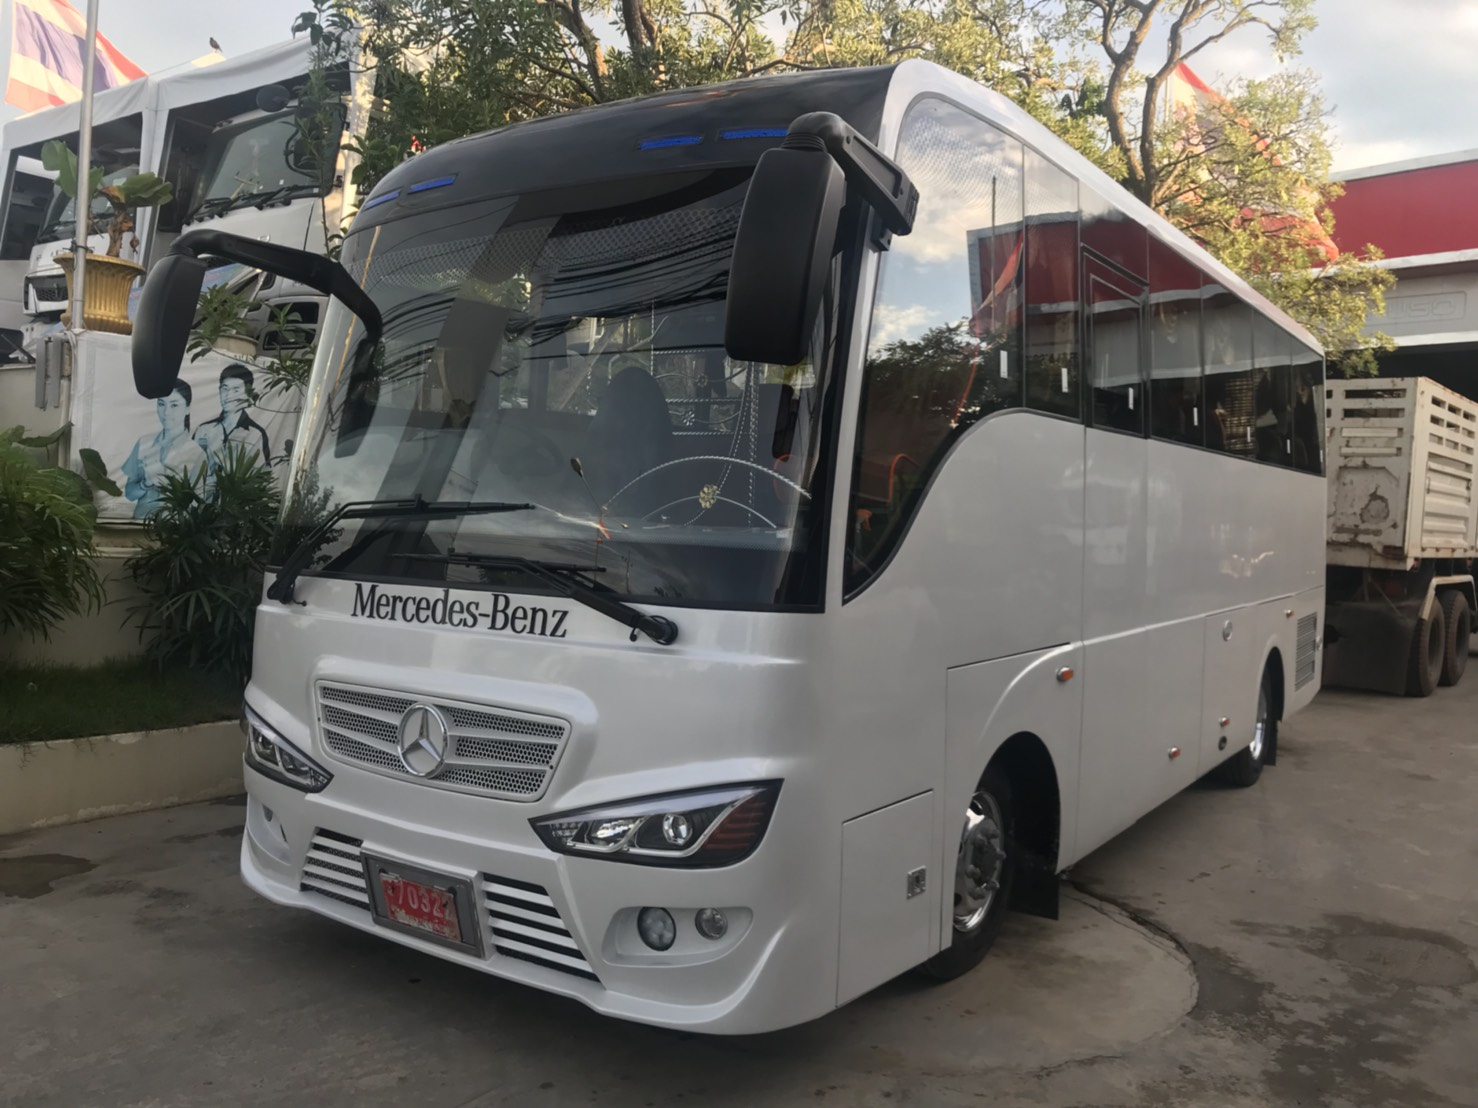bus: (239, 54, 1329, 1038)
